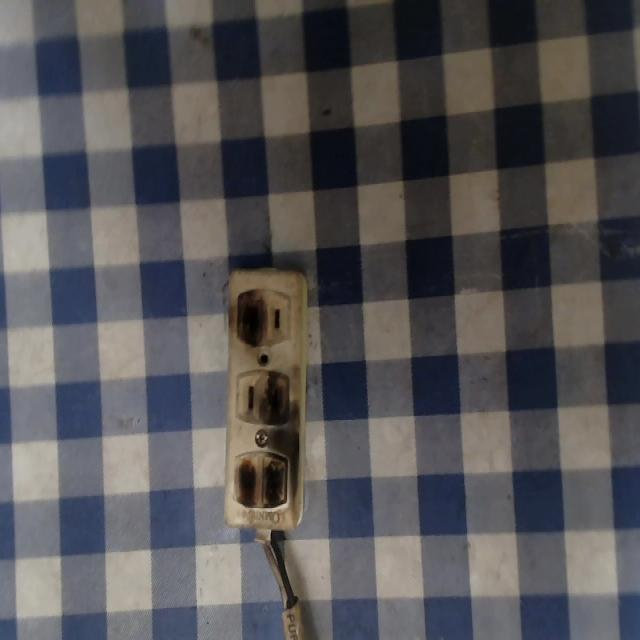-: (228, 447, 295, 516), (232, 272, 270, 355), (254, 364, 295, 423)
